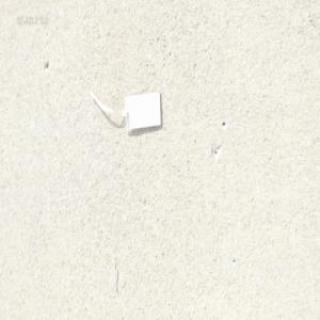LuggageTagtrack_idkeyframe: (88, 75, 164, 135)
